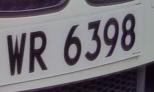3: (83, 17, 103, 62)
6: (62, 18, 85, 71)
8: (120, 10, 137, 53)
9: (102, 14, 120, 59)
R: (27, 26, 51, 77)
W: (4, 29, 28, 79)
